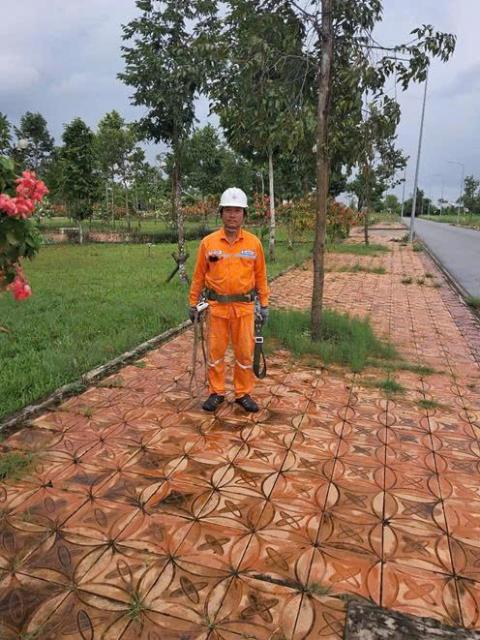gloves: (186, 304, 204, 331), (253, 305, 270, 328)
harness: (203, 282, 258, 304)
helmet: (215, 185, 255, 214)
shoes: (236, 392, 263, 421), (203, 392, 227, 416)
